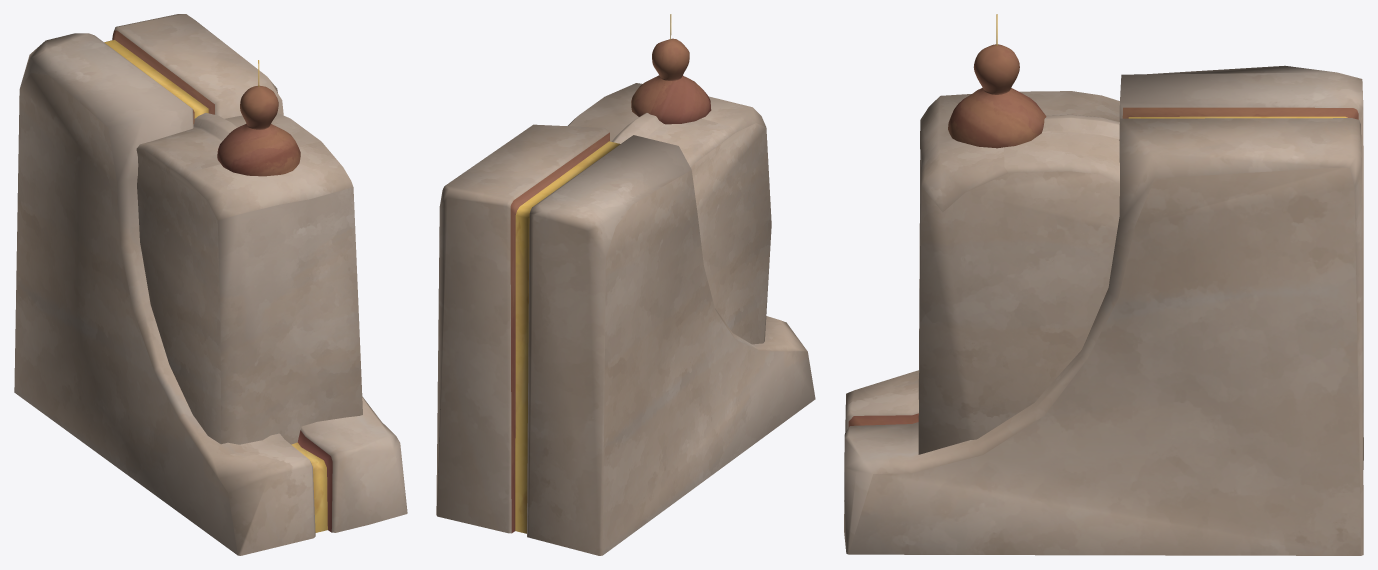
The model's file is BRUME_WallDetails.fbx.
3 views of the same model, side by side, from view 1: azimuth 30°, elevation 25°; view 2: azimuth 150°, elevation 25°; view 3: azimuth 270°, elevation 25° (orthographic). The views are drawn at different scales.
Visible parts, largest first — view 1: BRUME_Poteau_1, BRUME_Poteau_2; view 2: BRUME_Poteau_1, BRUME_Poteau_2; view 3: BRUME_Poteau_1, BRUME_Poteau_2.
Boxes of the visible parts, x1=… form: BRUME_Poteau_1: x1=14, y1=14, x2=407, y2=555; BRUME_Poteau_2: x1=136, y1=60, x2=362, y2=444; BRUME_Poteau_1: x1=436, y1=124, x2=815, y2=555; BRUME_Poteau_2: x1=567, y1=14, x2=771, y2=344; BRUME_Poteau_1: x1=844, y1=65, x2=1363, y2=555; BRUME_Poteau_2: x1=918, y1=14, x2=1119, y2=454.
Bounding box in the file's own units: 86.61 × 205 × 194.
